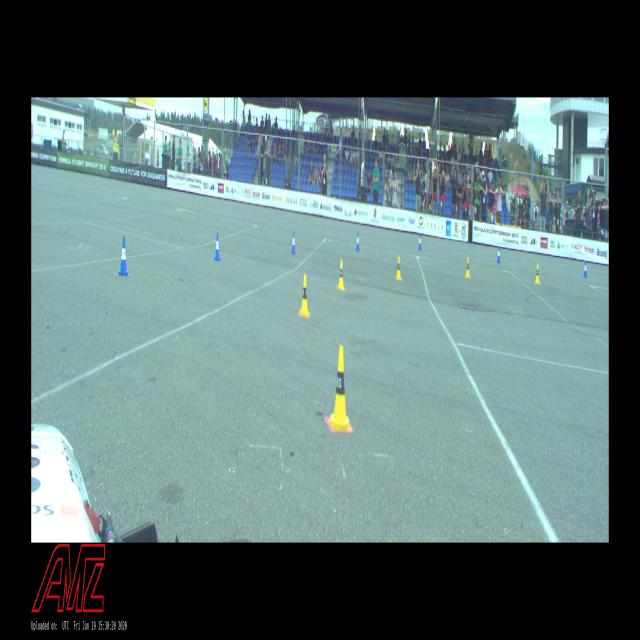blue_cone: (119, 237, 128, 276), (214, 233, 221, 260), (290, 232, 296, 254), (496, 246, 501, 263), (356, 231, 360, 250), (584, 262, 588, 278), (418, 234, 422, 250)
yellow_cone: (330, 347, 350, 431), (298, 273, 310, 316), (337, 259, 345, 291), (395, 256, 401, 280), (464, 257, 470, 278), (534, 264, 540, 284)
